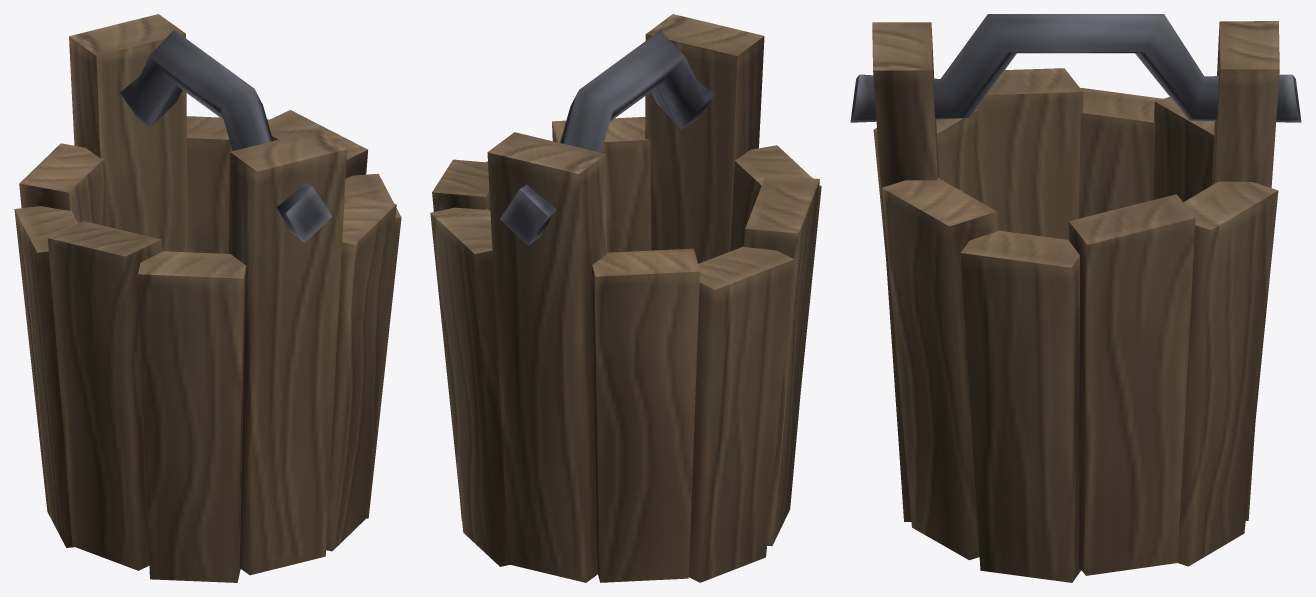
The model's file is Bucket.fbx.
3 renders of one model, left to right at view 1: azimuth 30°, elevation 25°; view 2: azimuth 150°, elevation 25°; view 3: azimuth 270°, elevation 25°, orthographic. The views are drawn at different scales.
Visible parts, largest first — view 1: polySurface2065; view 2: polySurface2065; view 3: polySurface2065.
Part boxes in pixels (x1=…): polySurface2065: x1=14, y1=14, x2=401, y2=582; polySurface2065: x1=430, y1=14, x2=821, y2=582; polySurface2065: x1=850, y1=14, x2=1301, y2=582.
Size of the model in its own units: 61.02 by 78.61 by 64.59.
1 material, 1 textured.
